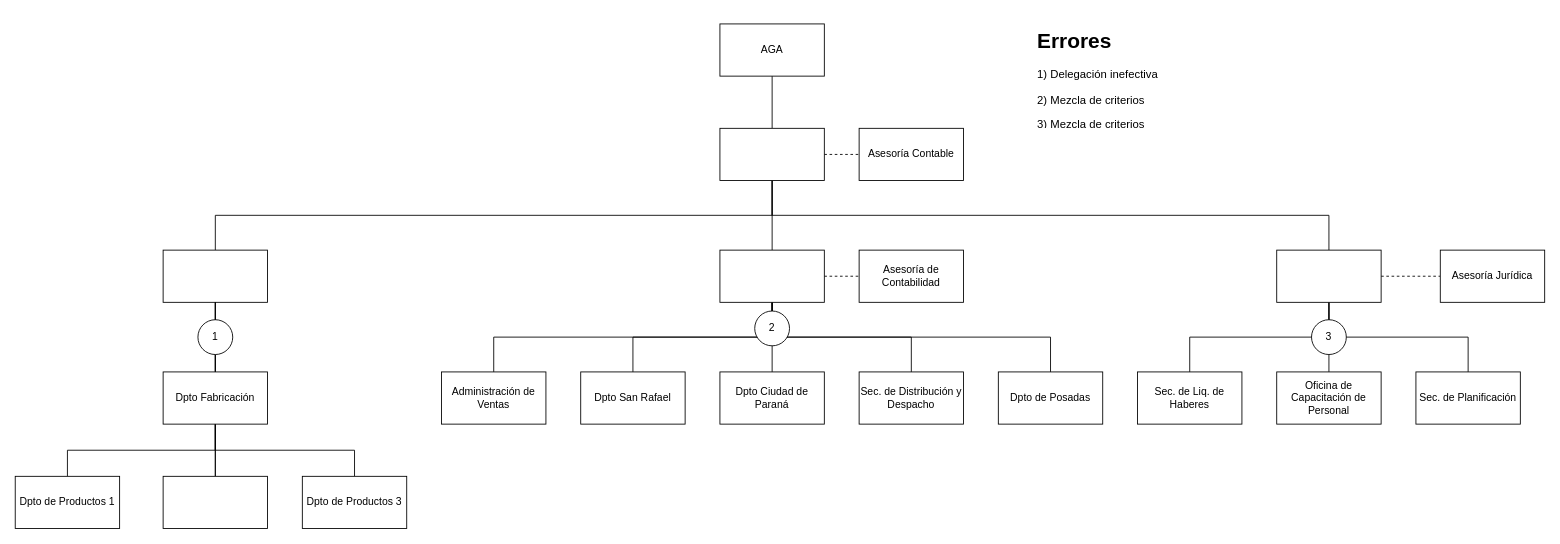
This 1560x544 diagram has some shape labels left out. The shapes that lost their labels are listed below. From the top down, each one's centre as x and y in pixels, then its label:
At (x=771, y=154): "Directorio".
At (x=215, y=275): "Gerencia de Producción".
At (x=771, y=275): "Gerencia de Ventas".
At (x=1328, y=275): "Gerencia de RRHH".
At (x=215, y=502): "Dpto de Productos 2".
